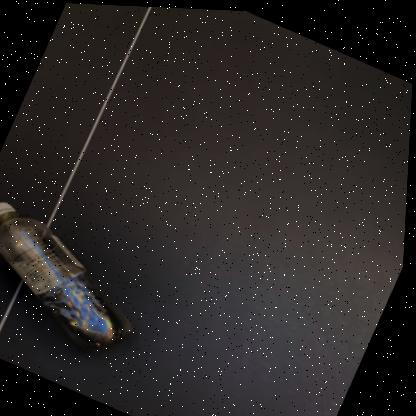Plastic: (0, 203, 135, 353)
